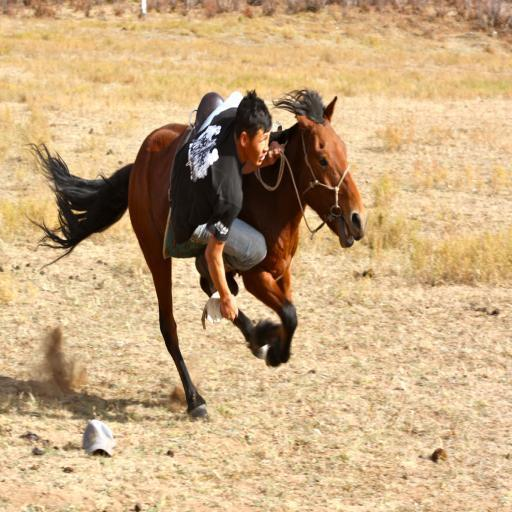horse: (20, 88, 364, 424)
